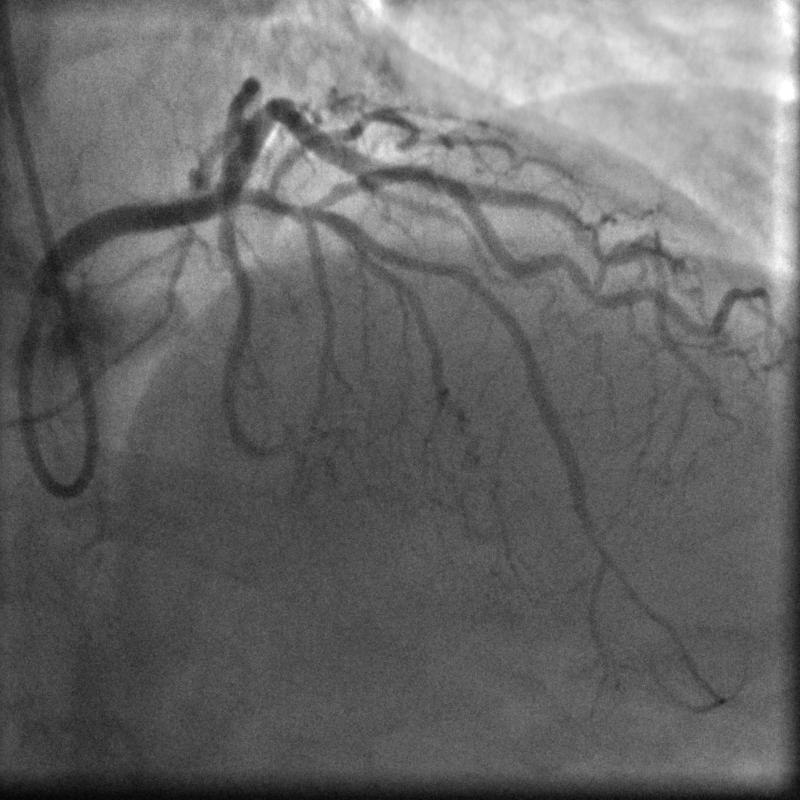Stenosis: (406, 160, 462, 193)
